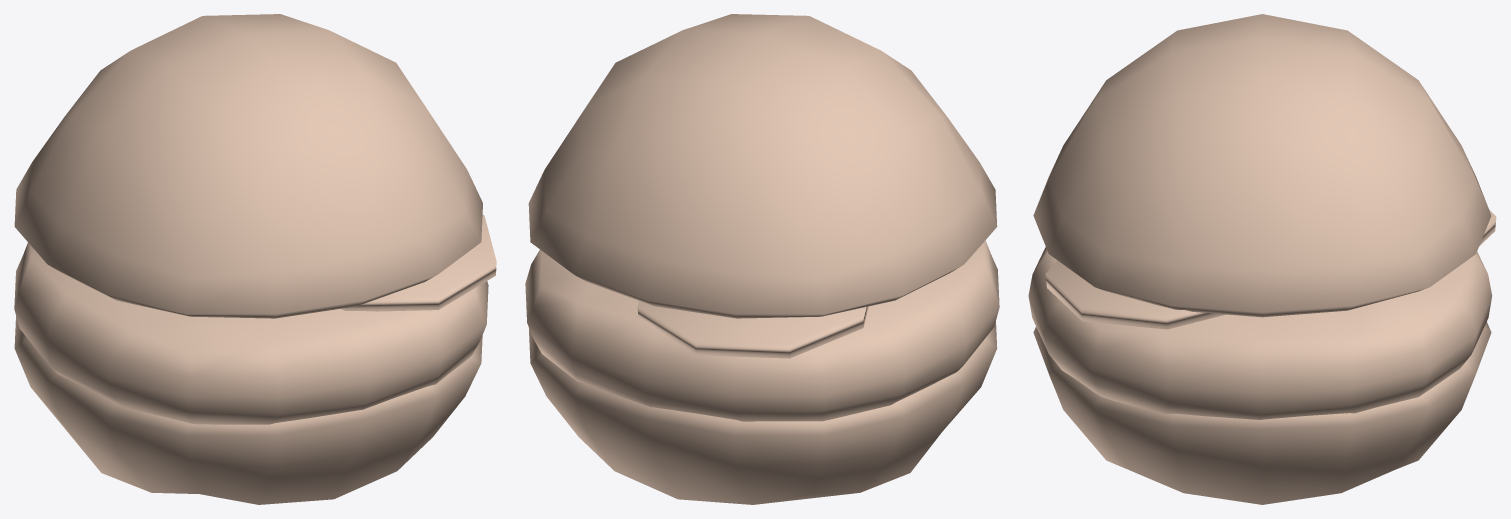
The model's file is object_burger_01.fbx.
3 renders of one model, left to right at view 1: azimuth 30°, elevation 25°; view 2: azimuth 150°, elevation 25°; view 3: azimuth 270°, elevation 25°, orthographic.
Visible parts, largest first — view 1: Burger_Bun; view 2: Burger_Bun; view 3: Burger_Bun.
Boxes of the visible parts, <box> form: Burger_Bun: <box>14,14,496,504</box>; Burger_Bun: <box>525,14,999,504</box>; Burger_Bun: <box>1028,14,1496,504</box>.
Bounding box in the file's own units: 3.83 × 3.72 × 3.86.
